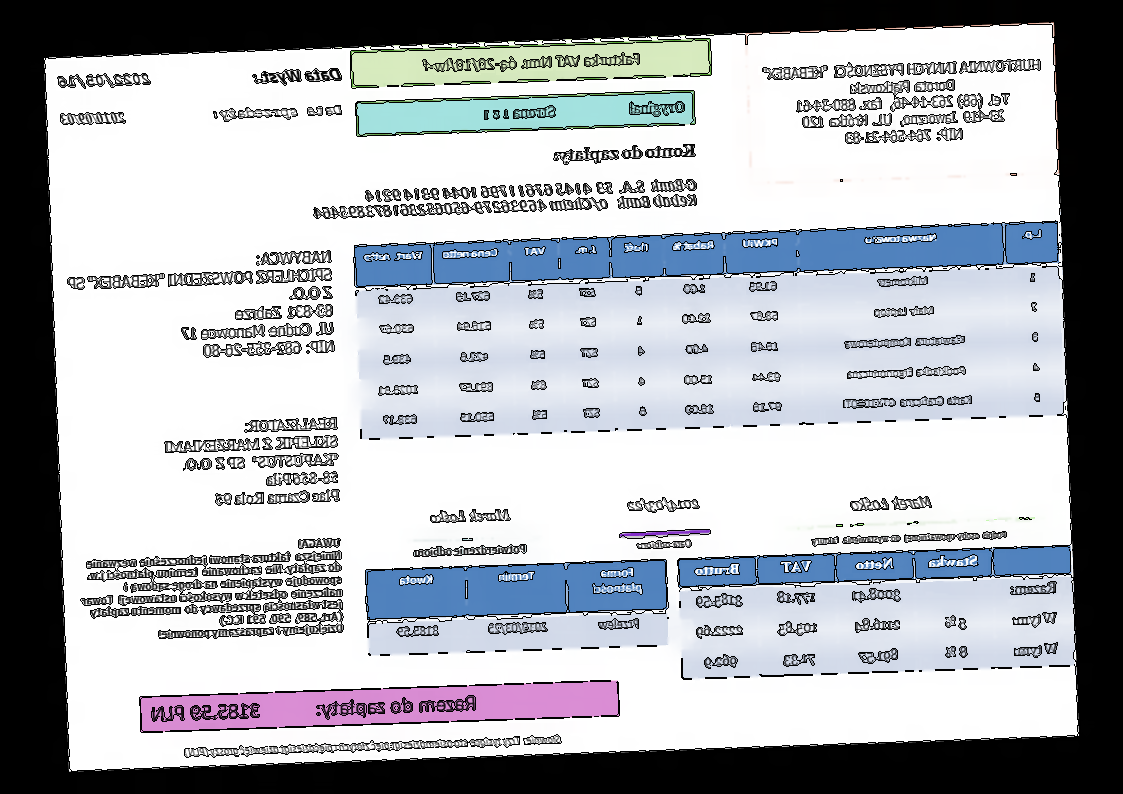Table: (353, 220, 1066, 441), (676, 544, 1076, 681), (364, 558, 671, 657)
TextBox: (64, 248, 338, 365), (77, 534, 347, 645), (759, 55, 1045, 151), (312, 176, 700, 224), (160, 414, 342, 510), (148, 692, 479, 727), (181, 731, 563, 761), (422, 48, 643, 76), (481, 98, 687, 122), (808, 526, 1011, 549), (550, 139, 700, 167), (212, 102, 345, 122), (410, 541, 529, 560), (57, 69, 155, 91), (250, 64, 345, 85), (848, 492, 933, 513), (428, 507, 512, 527), (624, 495, 703, 516), (60, 110, 128, 126), (635, 536, 695, 552)
